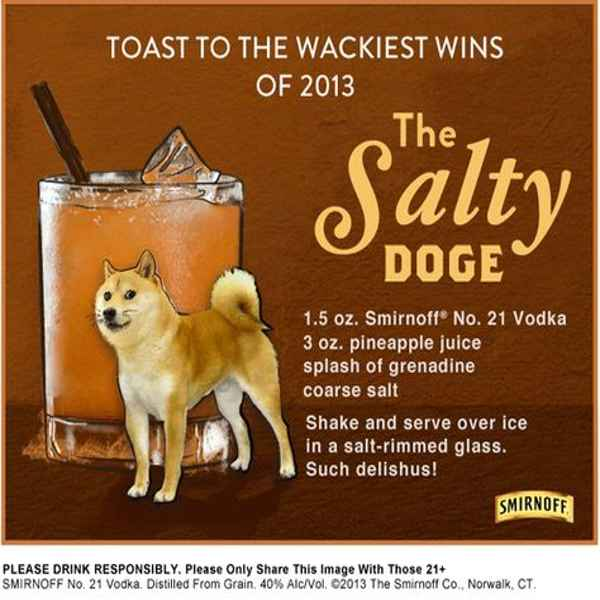doge: (87, 251, 173, 346)
